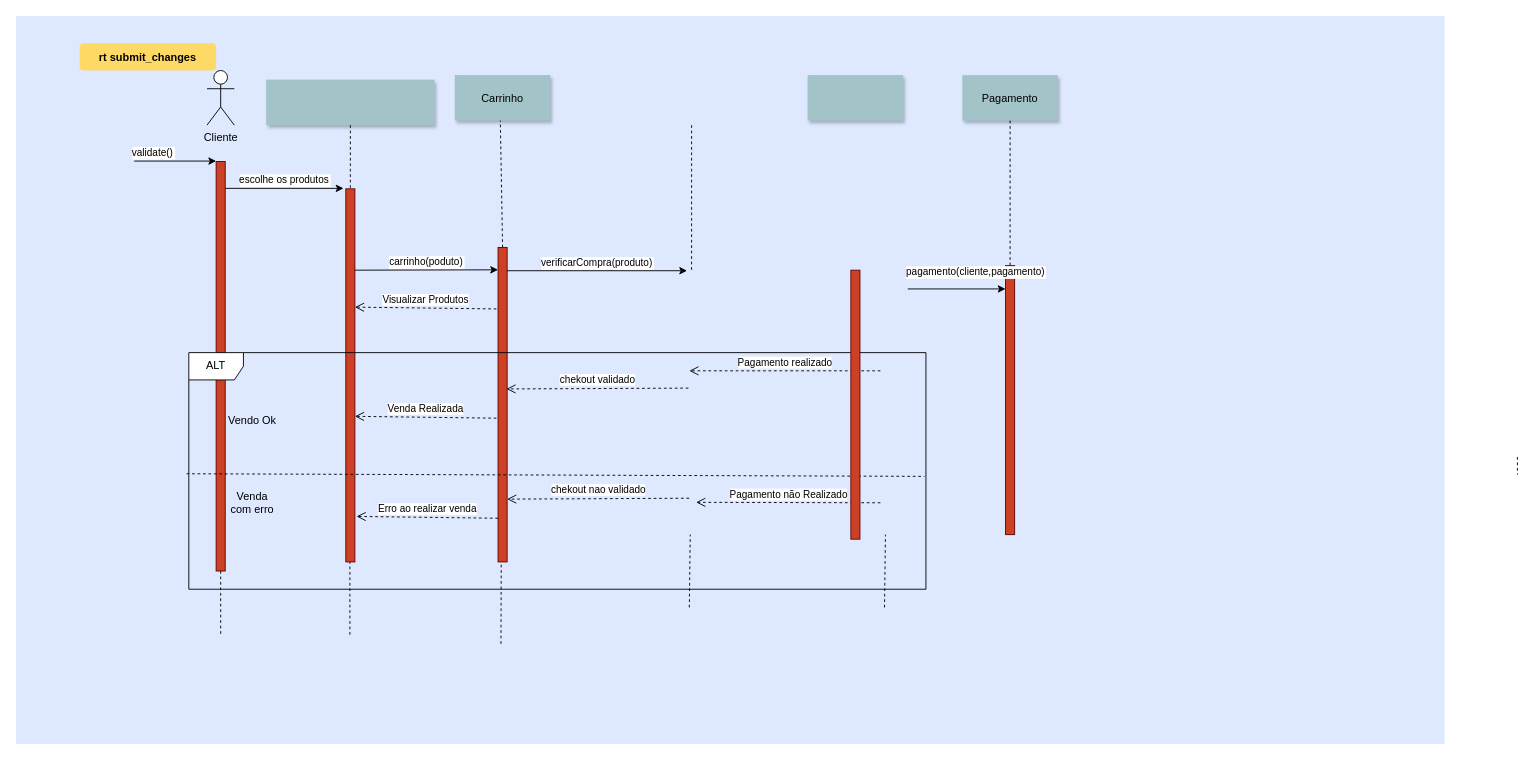
The diagram is 1534 pixels wide and 759 high, and some of its shapes have lost their labels. The shapes that lost their labels are listed below. From the top down, each one's centre as x and y in pixels, then its label:
point (351, 103): Produto
point (856, 98): Banco de Dados
